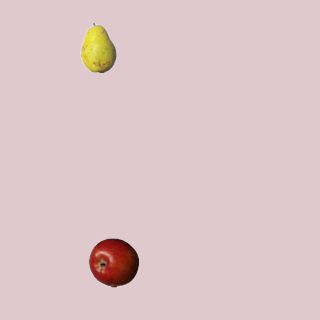Apple Braeburn: (88, 237, 138, 287)
Pear Monster: (73, 22, 123, 72)
